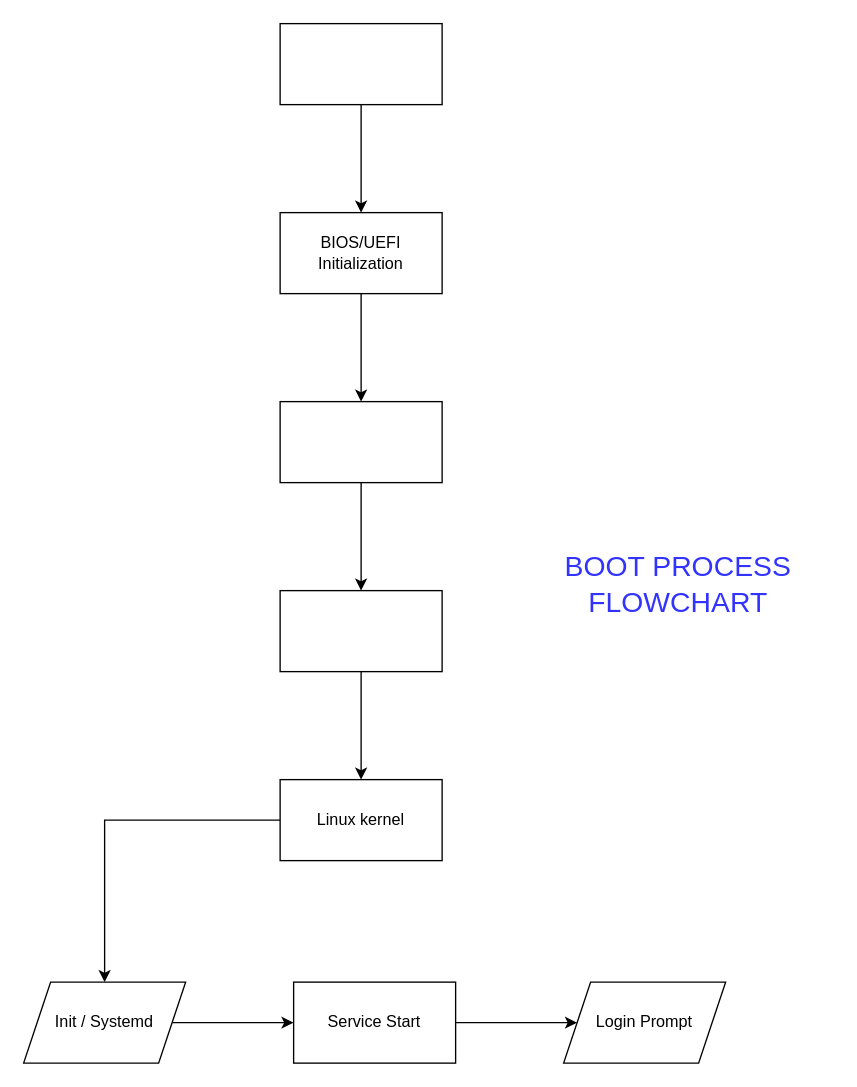
Image size: 857x1087. Some labels were removed from this diagram. The centre of each missing label's shape, as x and y in pixels:
"Boot Device Detection" goes at point 360,441.
"Grub Boot Loader" goes at point 360,630.
"Power On" goes at point 360,63.
